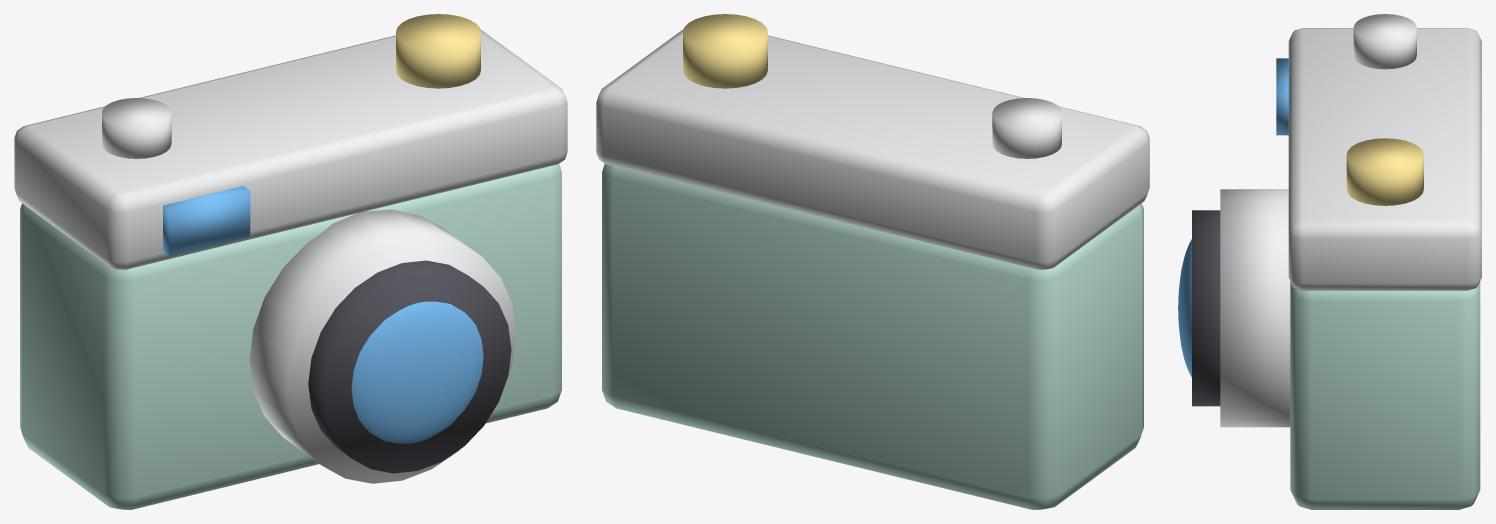
File: keepsake_camera.glb
3 renders of one model, left to right at view 1: azimuth 30°, elevation 25°; view 2: azimuth 150°, elevation 25°; view 3: azimuth 270°, elevation 25°, orthographic. The views are drawn at different scales.
Parts seen in each view (by area): view 1: Keepsake_Camera; view 2: Keepsake_Camera; view 3: Keepsake_Camera.
Part boxes in pixels (bbox=[...]): Keepsake_Camera: bbox=[14, 14, 567, 509]; Keepsake_Camera: bbox=[596, 14, 1149, 509]; Keepsake_Camera: bbox=[1178, 14, 1481, 509].
Size of the model in its own units: 1.37 by 1.03 by 0.865.
